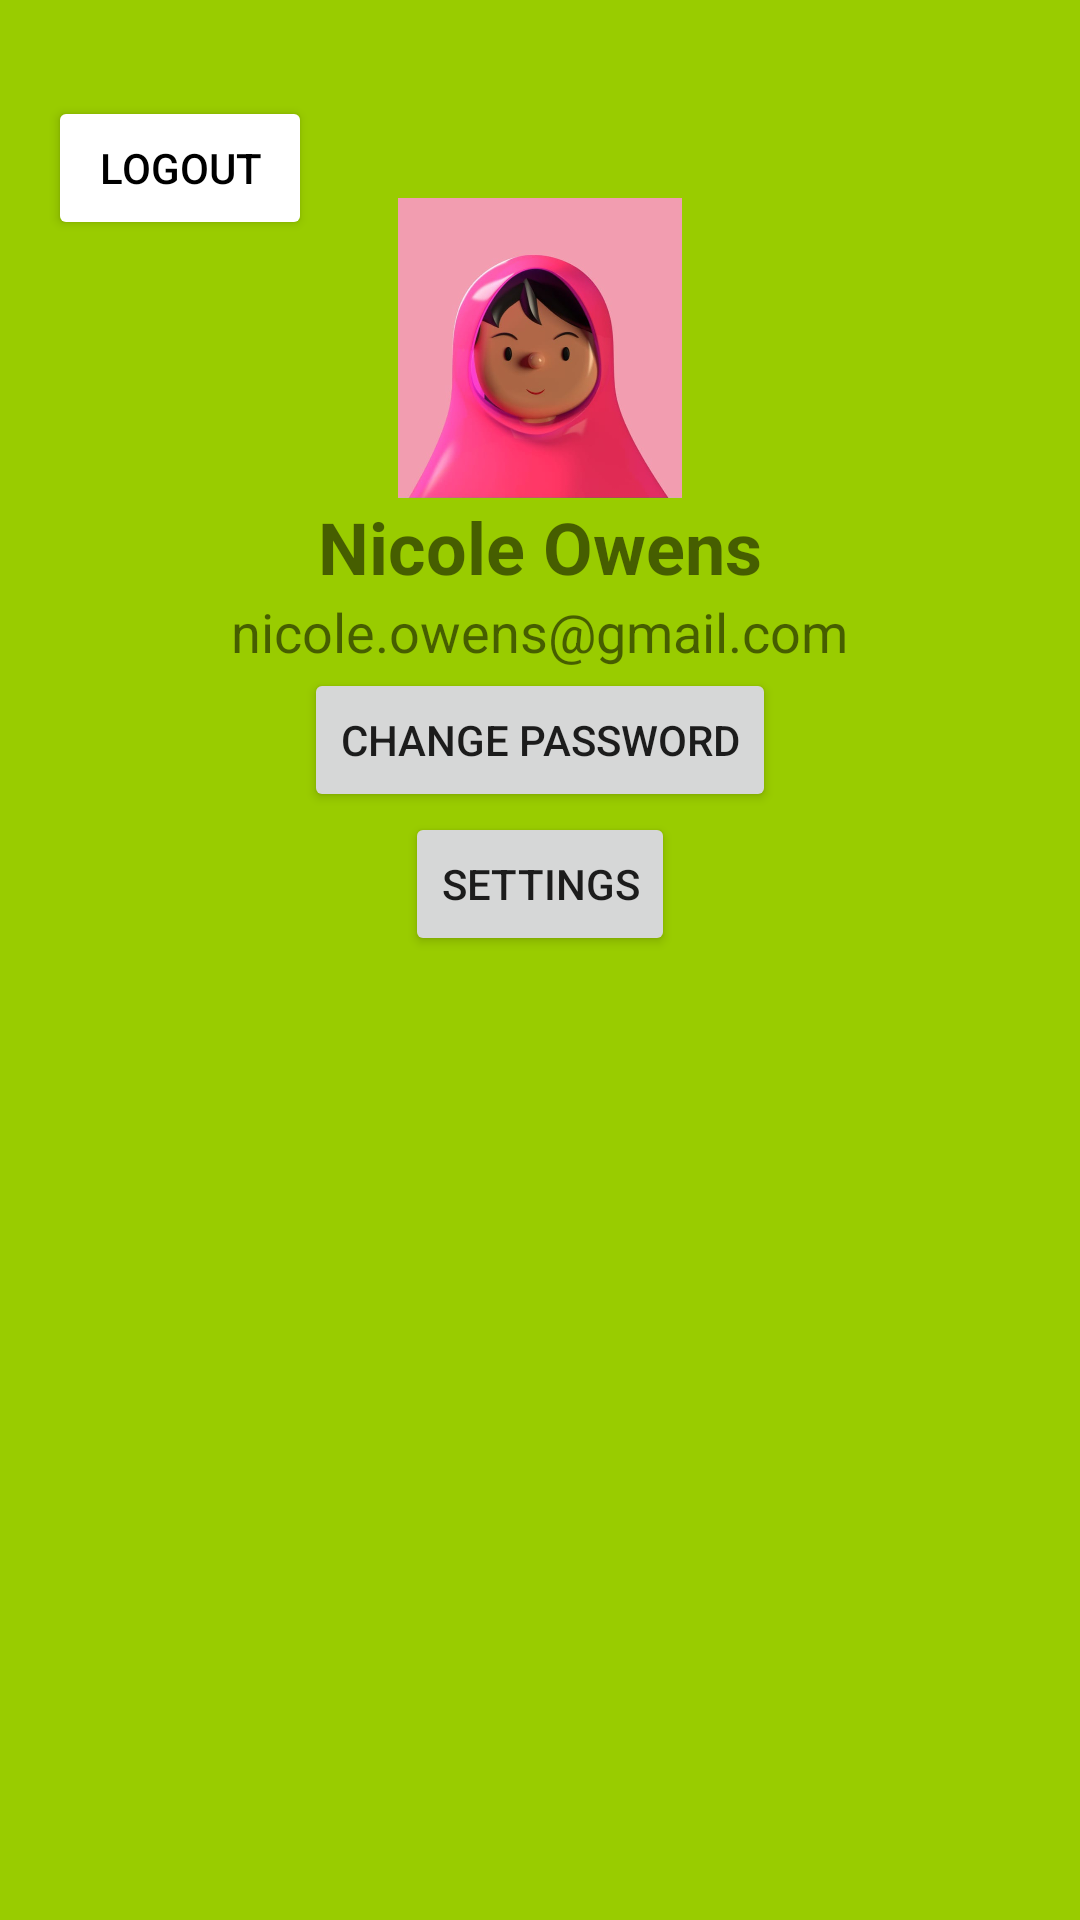

Named icons in this screenshot (1080*1920) and their centers, (x,y):
profile: (540,348)
